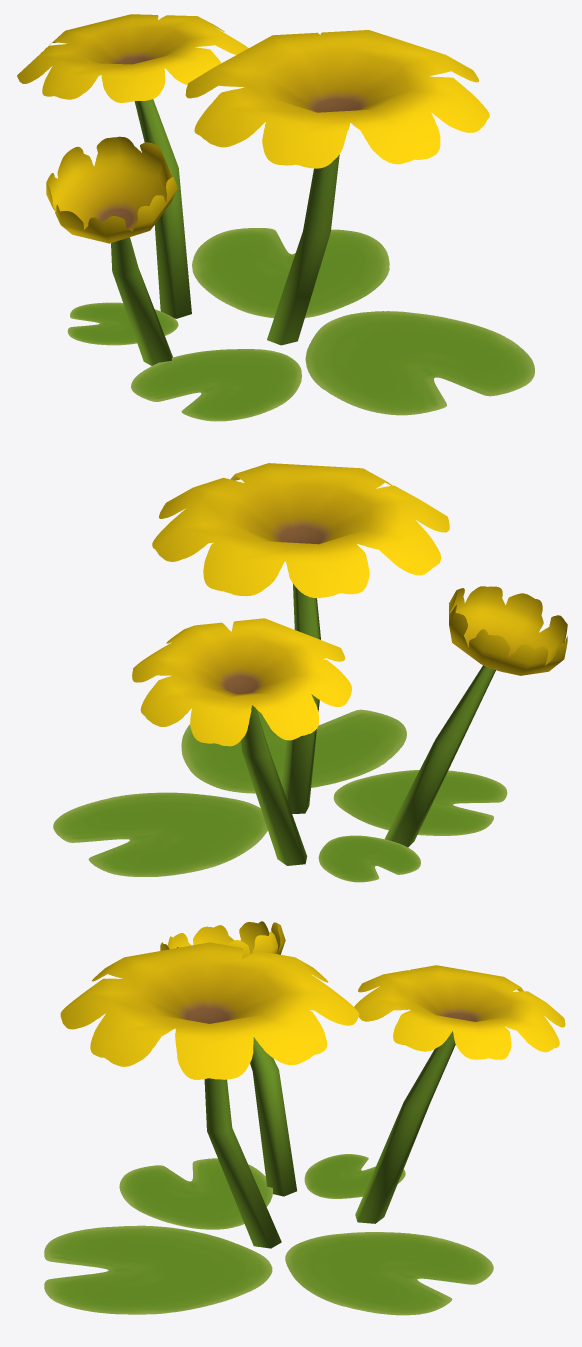
Rendered from waterplant_2.fbx.
3 renders of one model, top to bottom at view 1: azimuth 30°, elevation 25°; view 2: azimuth 150°, elevation 25°; view 3: azimuth 270°, elevation 25°, orthographic. The views are drawn at different scales.
Parts seen in each view (by area): view 1: water_plant_2; view 2: water_plant_2; view 3: water_plant_2.
Boxes of the visible parts, left/top/right/bottom form: water_plant_2: left=17, top=14, right=534, bottom=421; water_plant_2: left=53, top=463, right=567, bottom=882; water_plant_2: left=44, top=921, right=565, bottom=1315.
Bounding box in the file's own units: 322 × 185 × 357.
